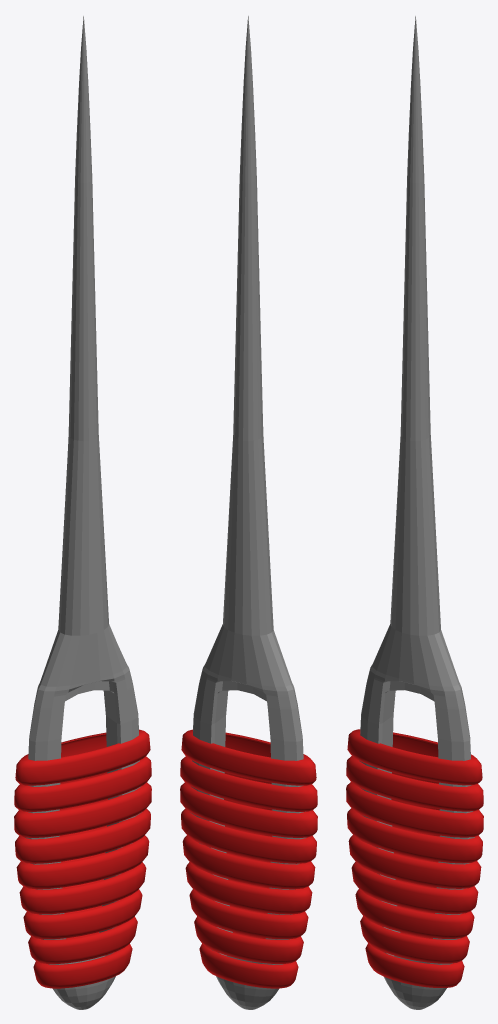
File: Needle_rope.FBX
3 views of the same model, side by side, from view 1: azimuth 30°, elevation 25°; view 2: azimuth 150°, elevation 25°; view 3: azimuth 330°, elevation 25° (orthographic).
Visible parts, largest first — view 1: Cylinder061; view 2: Cylinder061; view 3: Cylinder061.
Boxes of the visible parts, left/top/right/bottom form: Cylinder061: left=14, top=16, right=151, bottom=1009; Cylinder061: left=180, top=16, right=317, bottom=1009; Cylinder061: left=346, top=16, right=483, bottom=1009.
Size of the model in its own units: 9.42 by 65.66 by 3.19.
